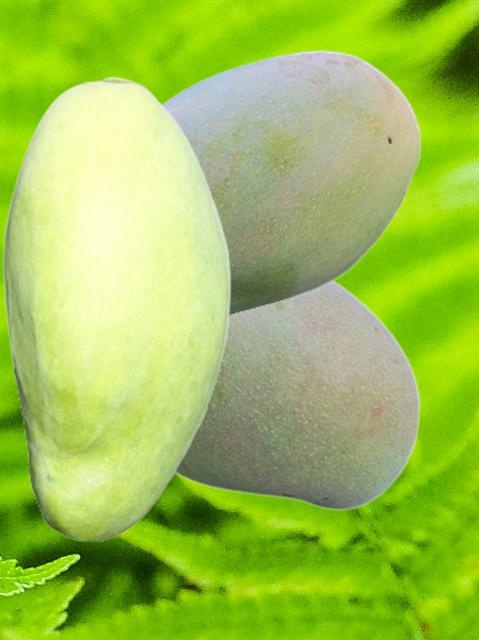green_mango: (2, 76, 230, 541), (161, 50, 421, 318), (175, 280, 420, 510)
